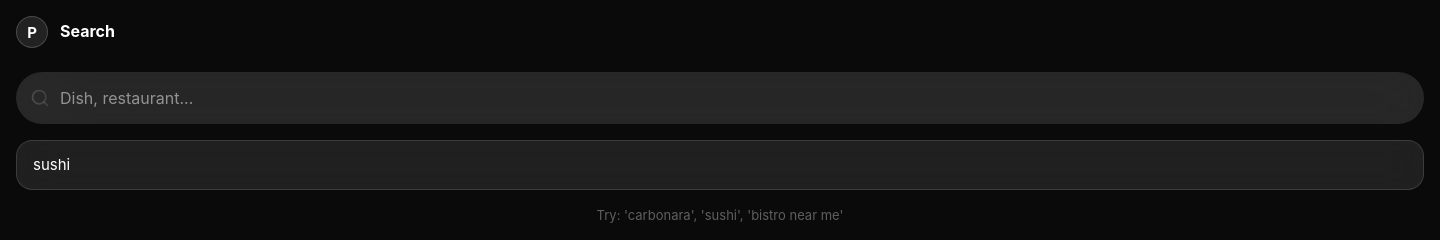
Test: SearchScreen — recent searches › re-shows recent searches after input is blurred with empty query
Focus the search field with placeholder "Dish, restaurant..." at (720, 98), box left=16, top=72, right=1424, bottom=124
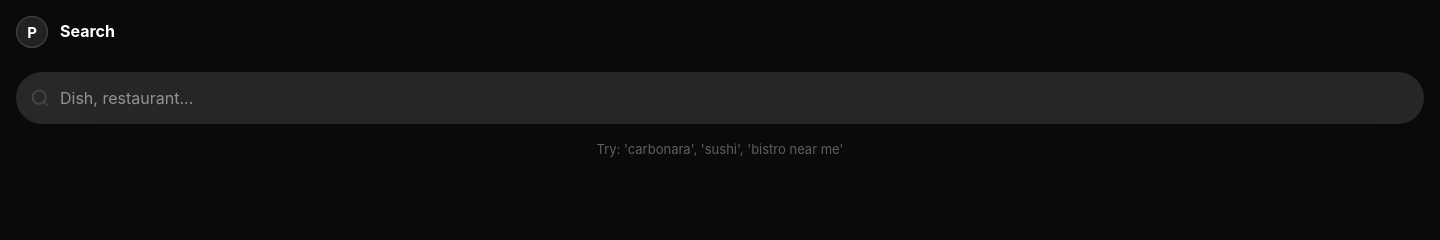
Leave the search field with placeholder "Dish, restaurant...", box left=16, top=72, right=1424, bottom=124
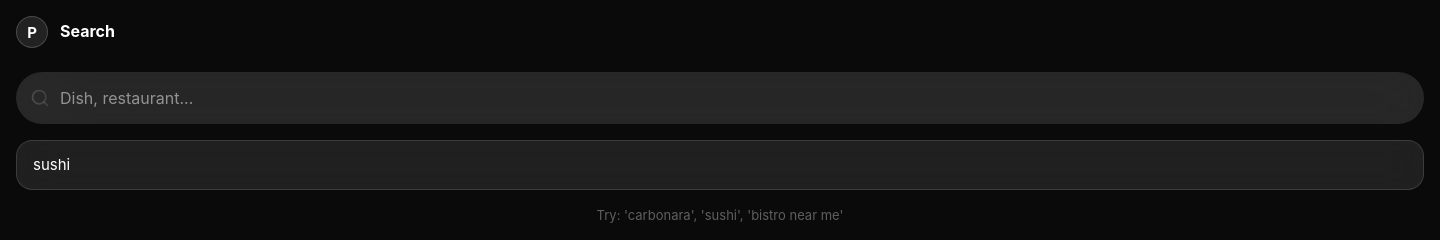
Now the text "sushi" is shown, box left=33, top=154, right=70, bottom=176
